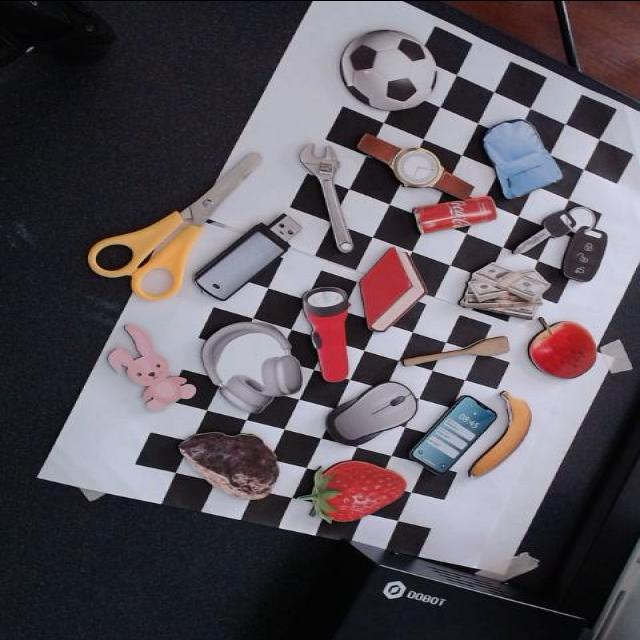Other Objects: (77, 122, 265, 306), (184, 308, 322, 419), (188, 206, 312, 302), (515, 194, 633, 284), (332, 21, 445, 114), (357, 130, 476, 200), (108, 321, 197, 410), (472, 112, 565, 197), (408, 393, 499, 474), (179, 430, 281, 498), (300, 282, 369, 381), (300, 138, 355, 252), (327, 379, 420, 445), (468, 389, 533, 476), (459, 260, 553, 318), (528, 316, 597, 378), (413, 193, 499, 233), (400, 335, 510, 365)
